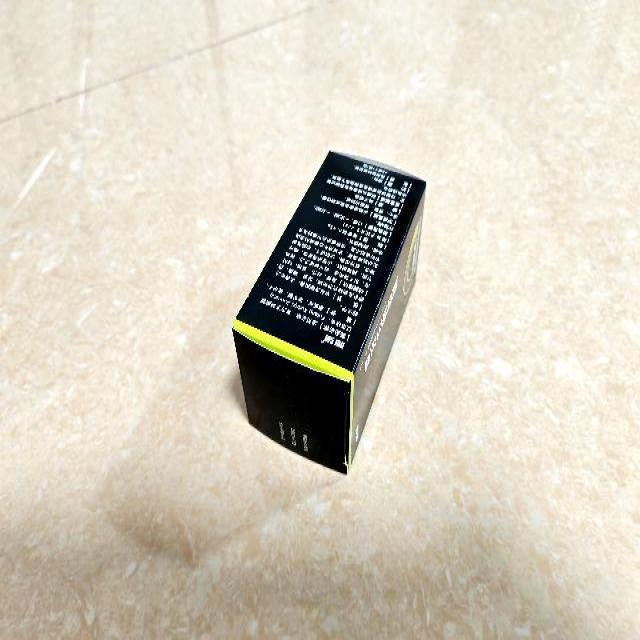box: (230, 150, 426, 474)
